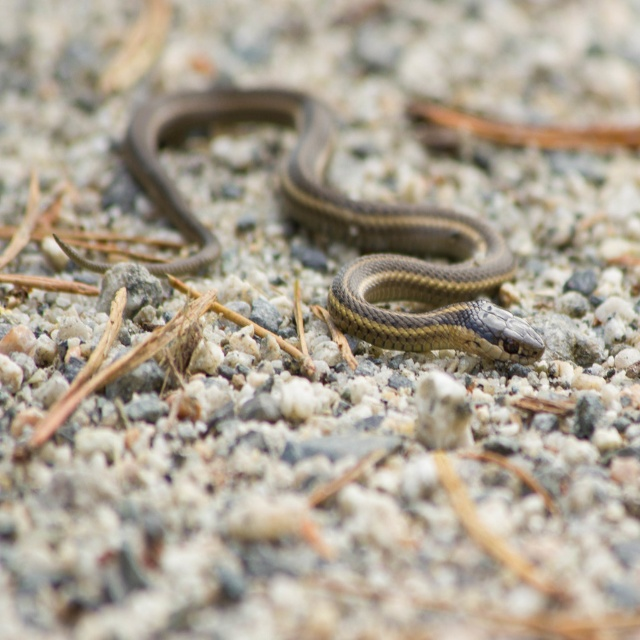Snake: (52, 87, 546, 366)
